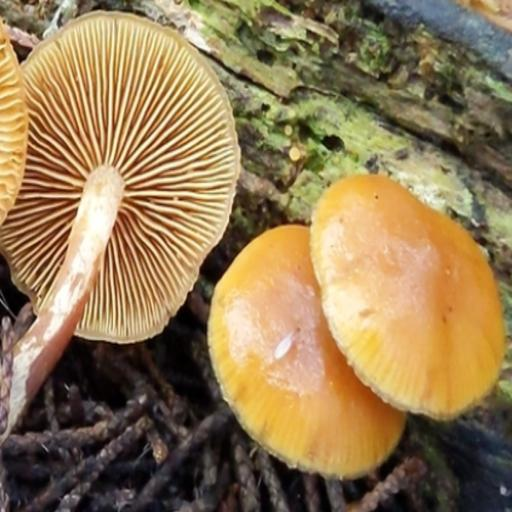mushroom: (207, 166, 505, 482), (7, 9, 241, 361)
